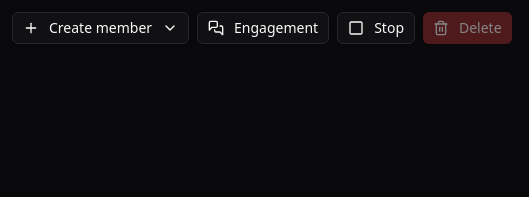
Test: UnitPaneActions — Create member dropdown (#2544) › disables the Human entry while the operator identity is unresolved
Click the button with test id "unit-action-create-member".
click(101, 28)  # box [12,12,189,44]
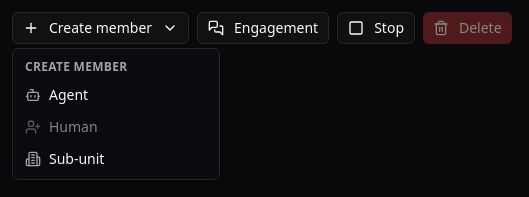
Now the menu item with test id "unit-create-member-human" is disabled, box [13,111,219,143]
